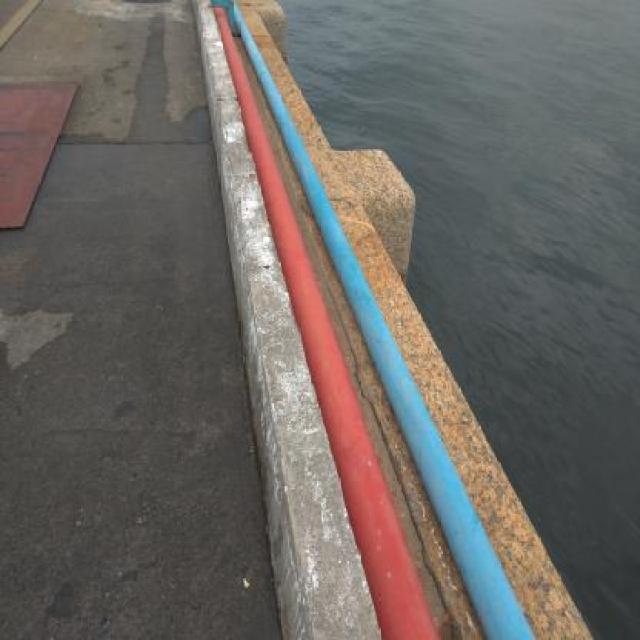gas: (234, 8, 534, 640), (215, 6, 437, 640)
